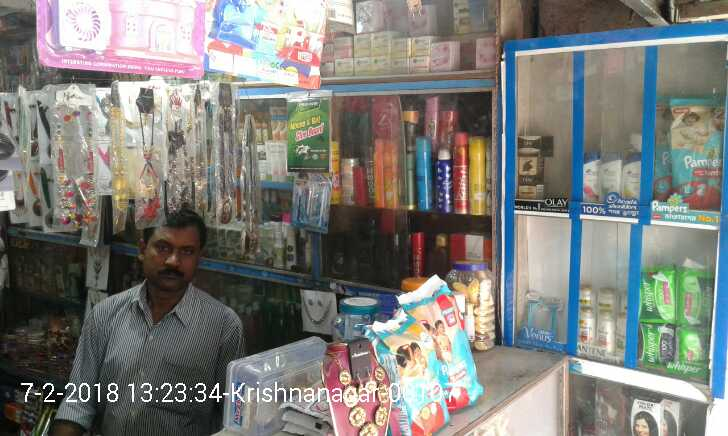venus: (546, 298, 564, 339), (524, 293, 541, 333)
